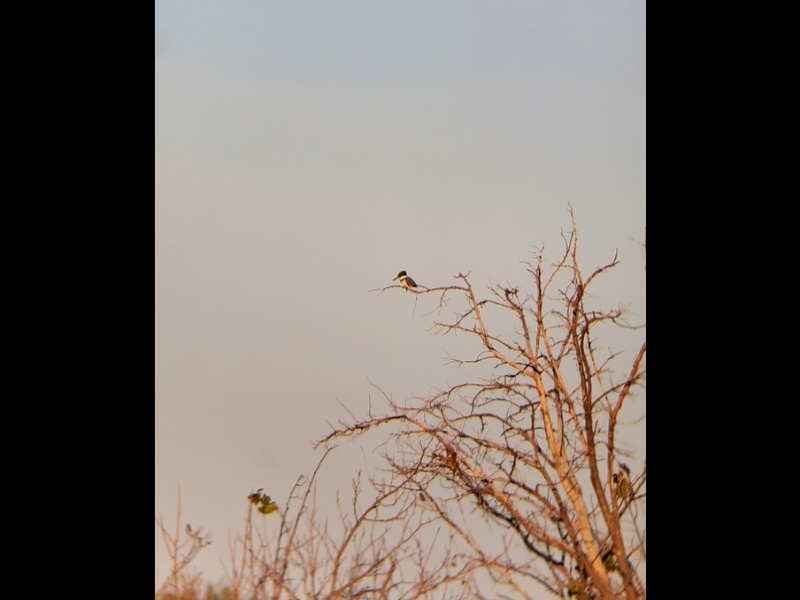kingfisher: (393, 268, 421, 291)
